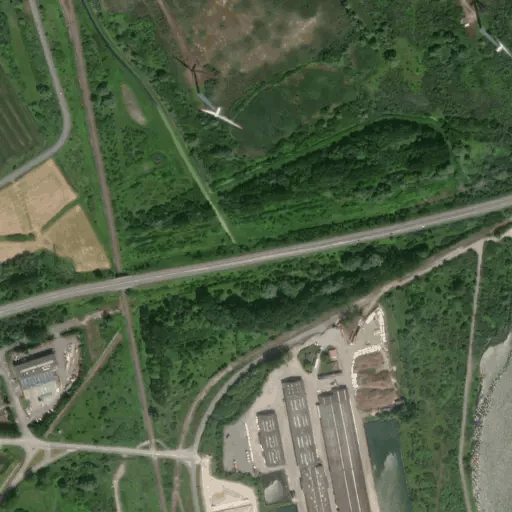wt: (169, 49, 247, 135), (463, 1, 512, 63)
